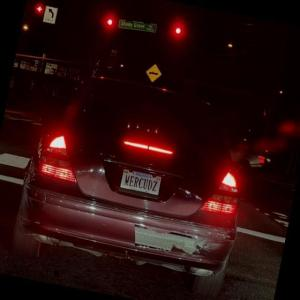Plate: (117, 167, 163, 200)
